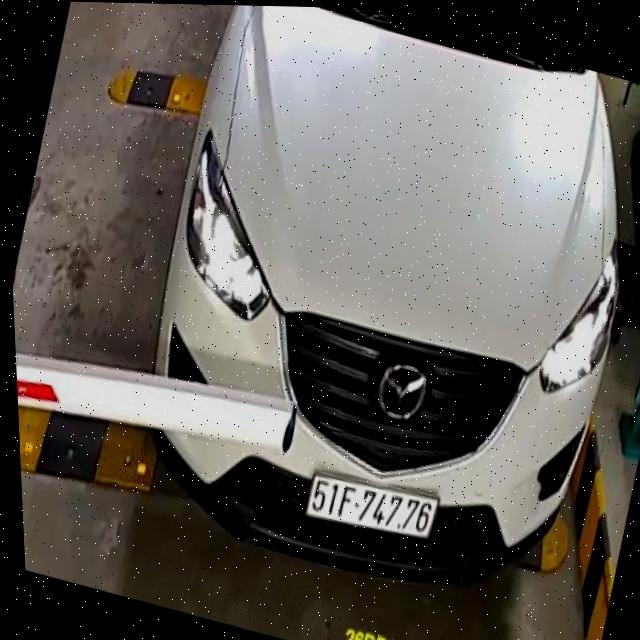car: (85, 2, 640, 633)
plate: (294, 466, 451, 554)
